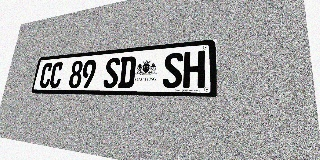8: (68, 60, 84, 88)
9: (80, 59, 97, 88)
C: (49, 62, 64, 88), (38, 63, 53, 88)
D: (118, 56, 136, 88)
H: (183, 50, 205, 88)
S: (162, 52, 183, 88), (103, 57, 121, 88)
